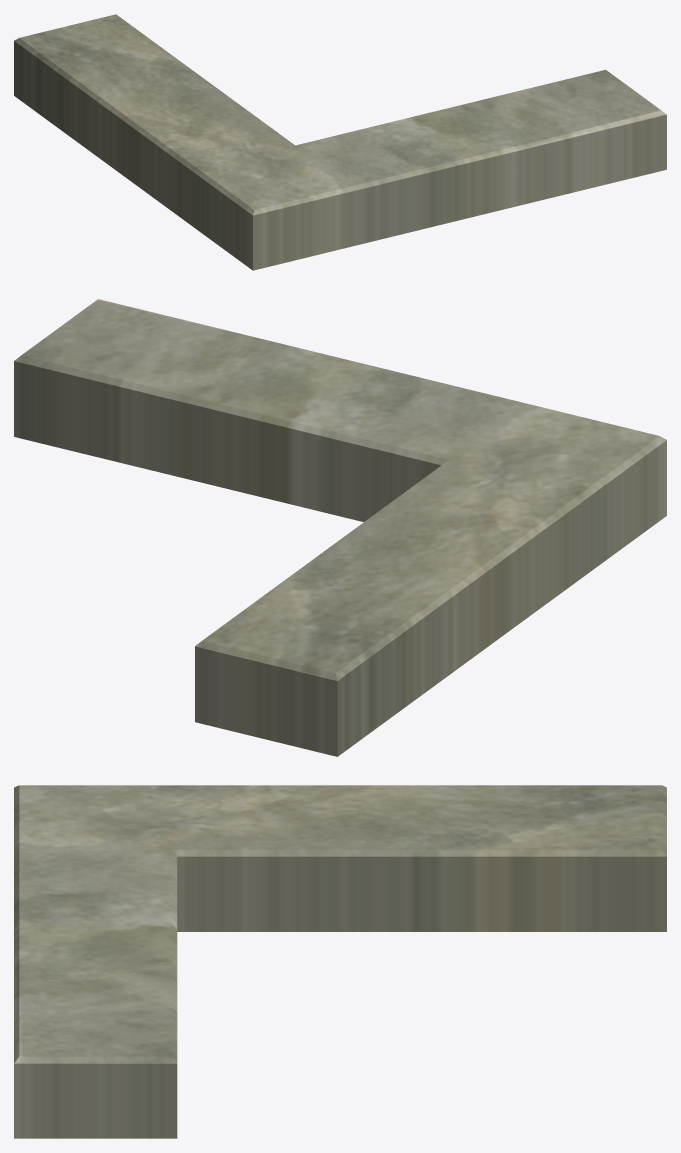
Rendered from f03-t-stone-l-corner-showcase-south-west.glb.
3 views of the same model, one above another, from view 1: azimuth 30°, elevation 25°; view 2: azimuth 150°, elevation 25°; view 3: azimuth 270°, elevation 25° (orthographic). The views are drawn at different scales.
Parts seen in each view (by area): view 1: f03-t-stone-l-corner-showcase-south-west; view 2: f03-t-stone-l-corner-showcase-south-west; view 3: f03-t-stone-l-corner-showcase-south-west.
Boxes of the visible parts, x1=… form: f03-t-stone-l-corner-showcase-south-west: x1=14, y1=14, x2=666, y2=270; f03-t-stone-l-corner-showcase-south-west: x1=14, y1=299, x2=666, y2=756; f03-t-stone-l-corner-showcase-south-west: x1=14, y1=785, x2=666, y2=1138.
Bounding box in the file's own units: 1 × 0.135 × 1.
1 material, 1 textured.
